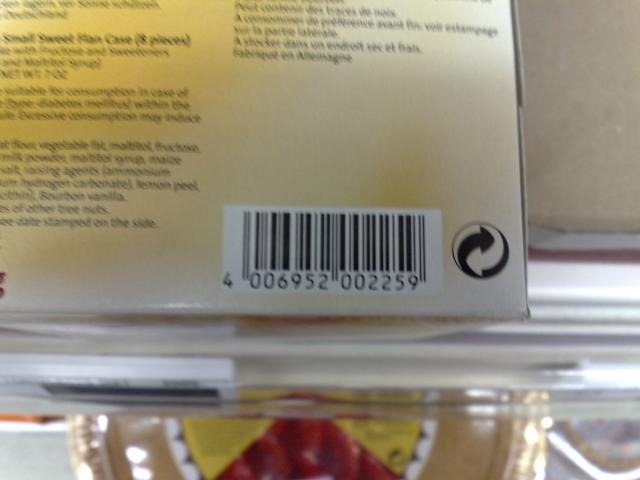Barkod: (238, 211, 428, 273)
